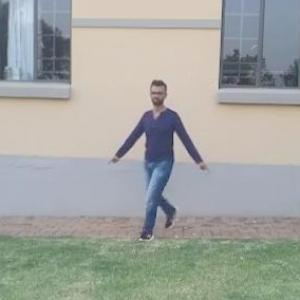land: (102, 77, 216, 249)
